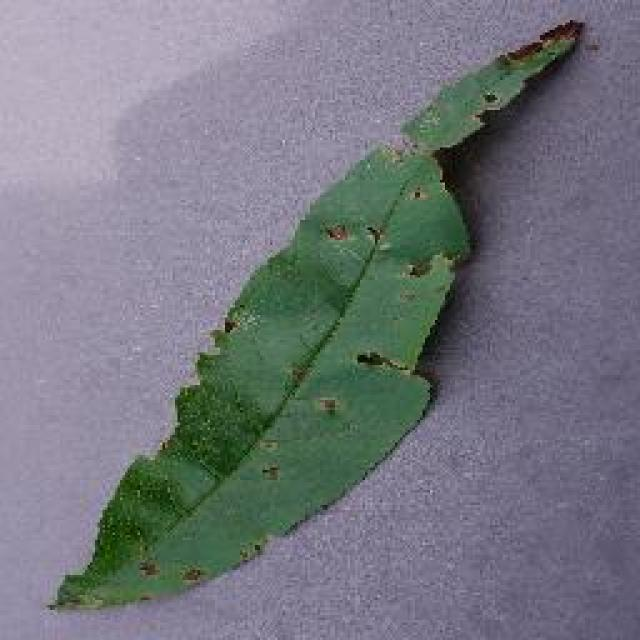Peach_Bacterial_Spot: (223, 125, 467, 553)
